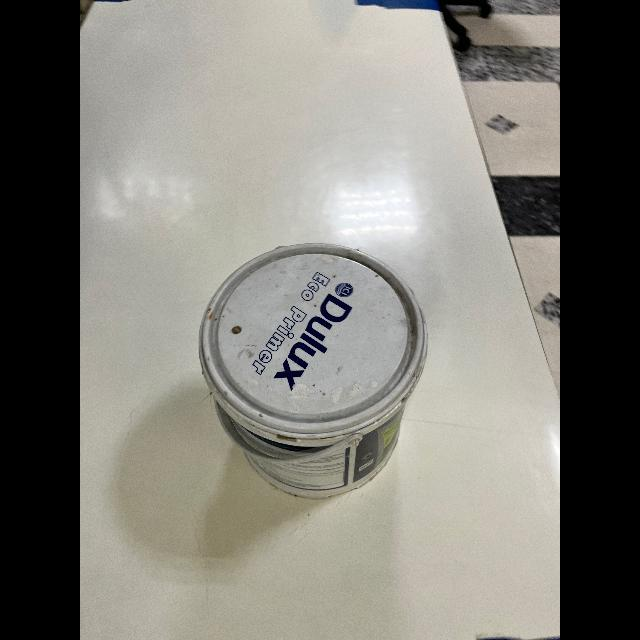paint_bucket: (186, 230, 440, 516)
